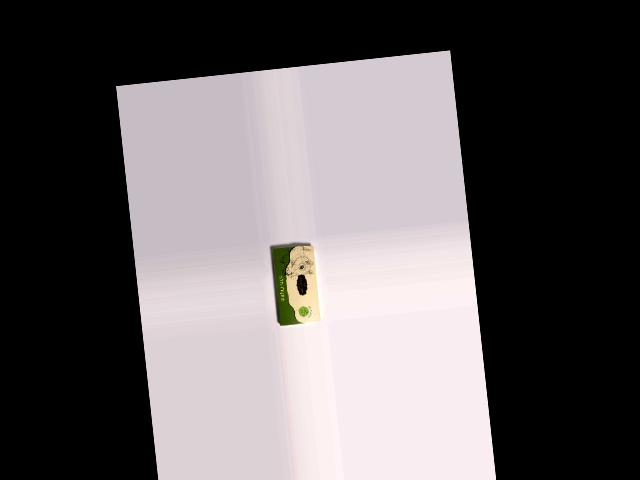chocolate: (270, 243, 322, 327)
